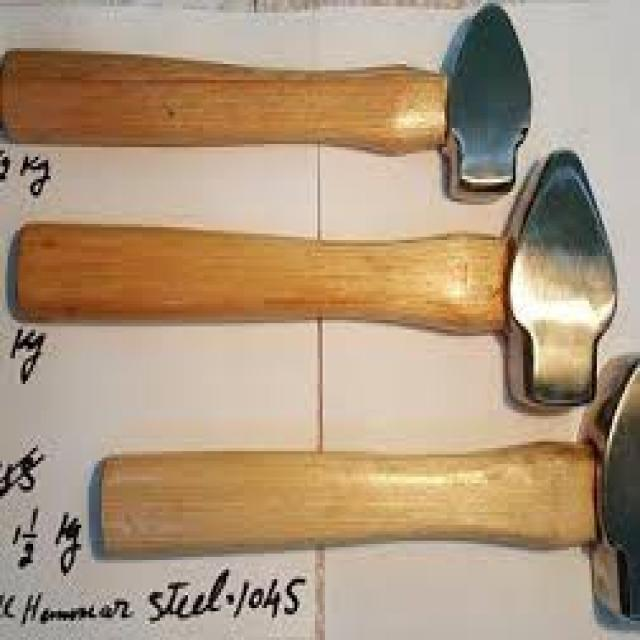hammer: (5, 142, 622, 418), (89, 347, 640, 626), (0, 0, 538, 208)
